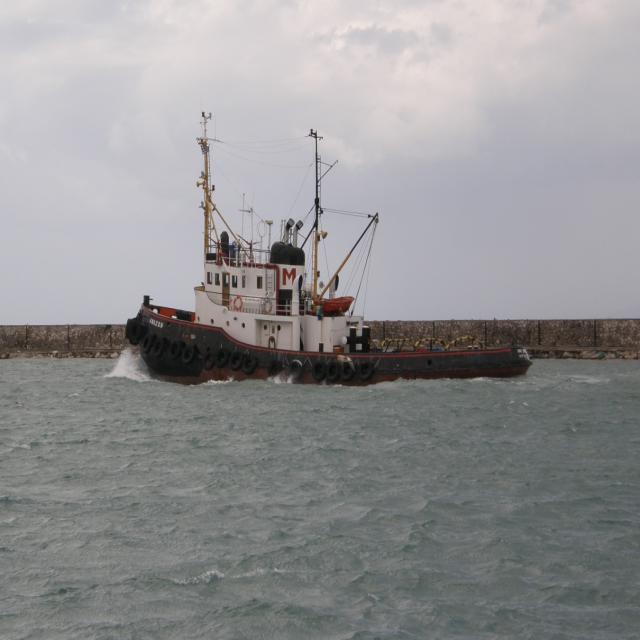fishing boat: (124, 159, 535, 382)
